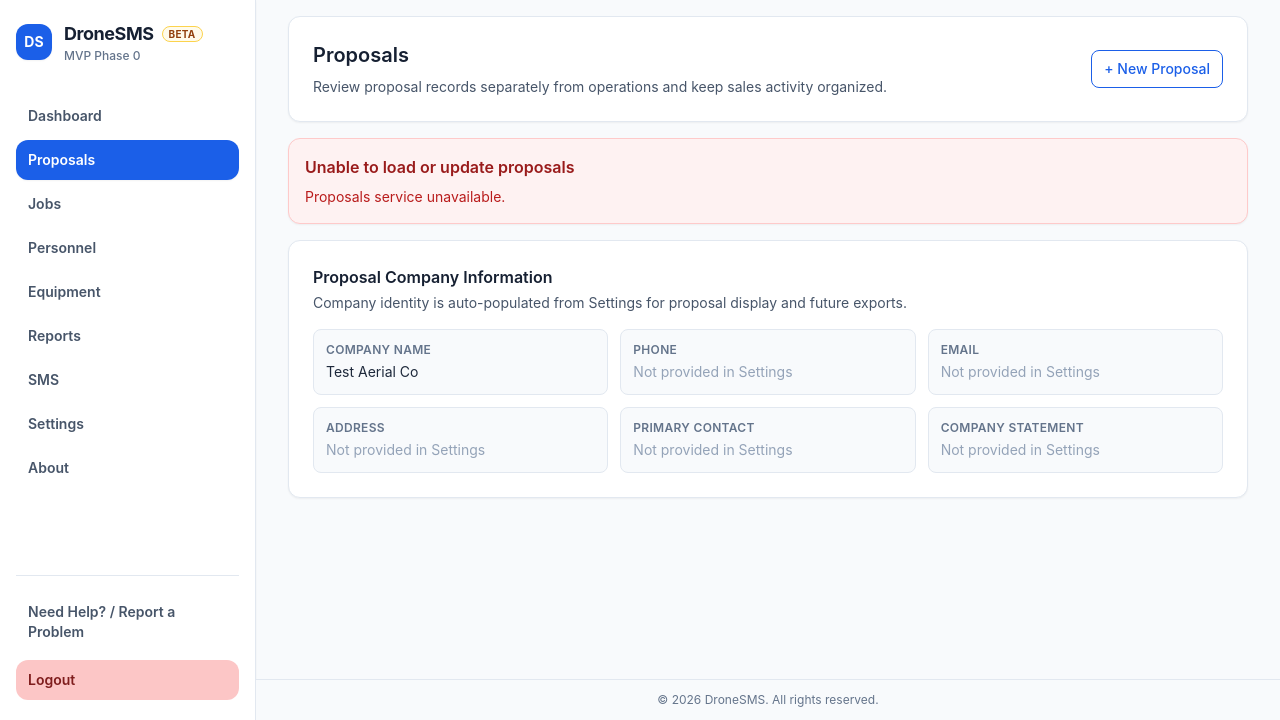
Test: Jobs page loading, empty, and failure states › reports a proposals load failure on Proposals only
Expected: the message shows "Unable to load or update proposals", [288,138,1248,224]
Expected: the message shows "Proposals service unavailable.", [305,188,505,205]
Step 1. Click the link "Jobs" → (45, 204), box [28,195,61,212]
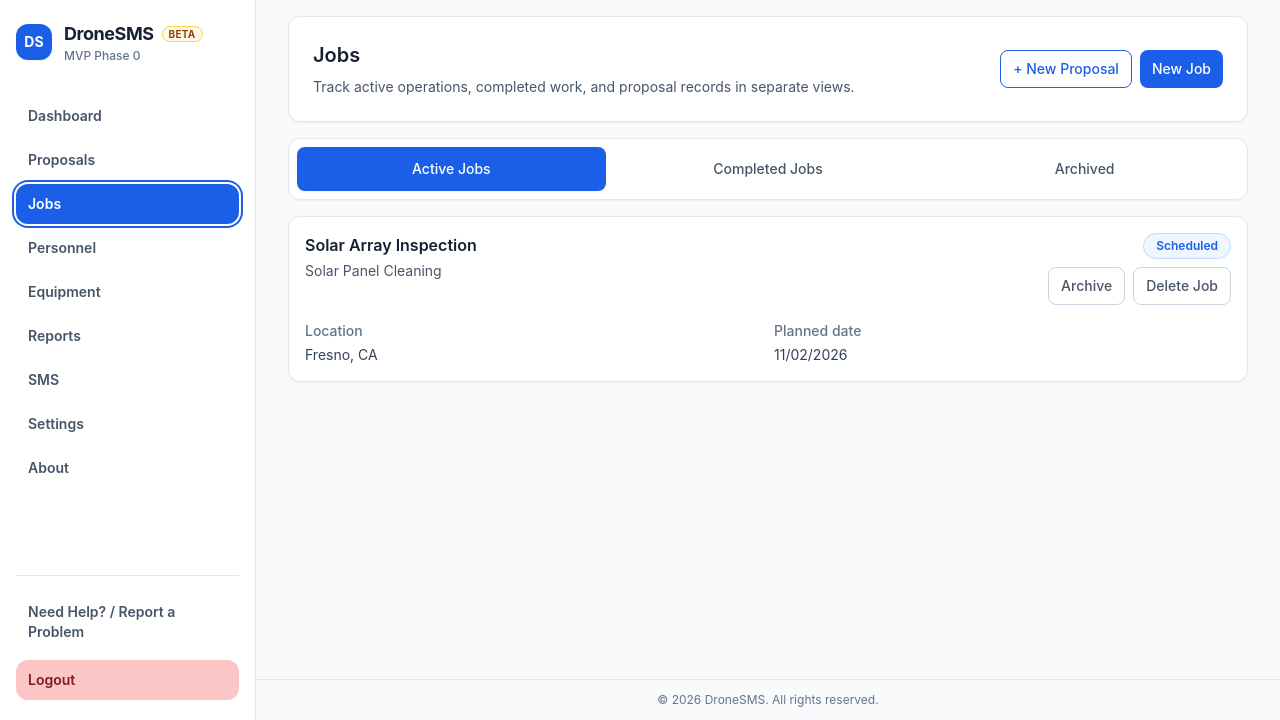
Expected: the heading "Solar Array Inspection" is shown, [305,235,477,255]
Expected: the message "Unable to load or update proposals Proposals service unavailable." is gone
